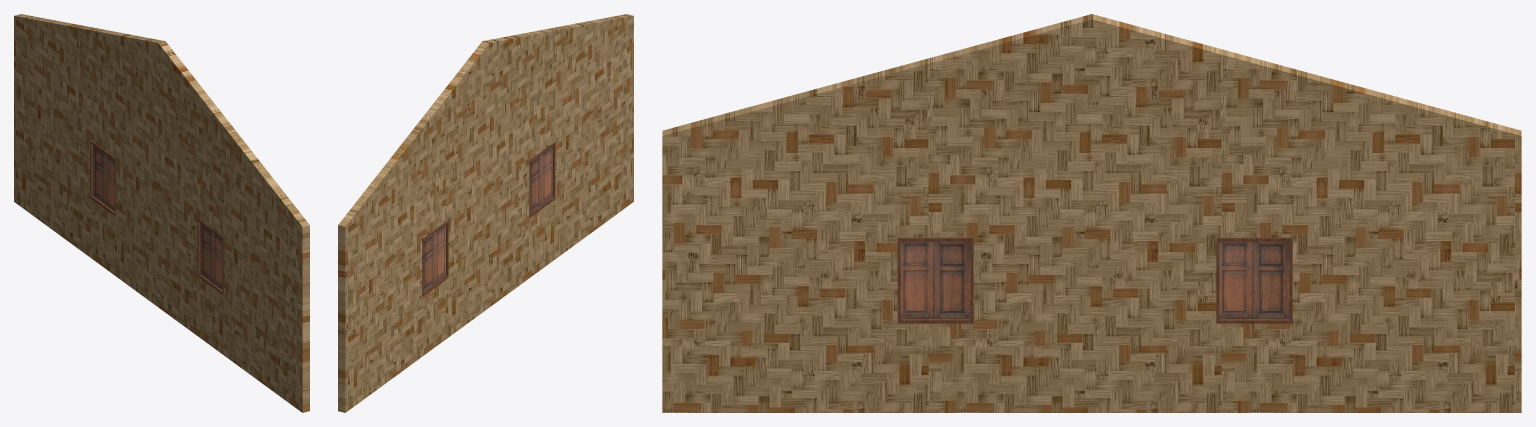
The model's file is R2_Kiri.fbx.
The picture shows the model from 3 angles, left to right: view 1: azimuth 30°, elevation 25°; view 2: azimuth 150°, elevation 25°; view 3: azimuth 270°, elevation 25°; orthographic projection. The views are drawn at different scales.
Parts seen in each view (by area): view 1: Cube.181; view 2: Cube.181; view 3: Cube.181.
Part boxes in pixels (x1,y1,x2,y2): Cube.181: (14,14,309,412); Cube.181: (338,14,633,412); Cube.181: (662,14,1521,412).
Size of the model in its own units: 0.3644 by 10.21 by 20.2.
3 materials, 3 textured.
